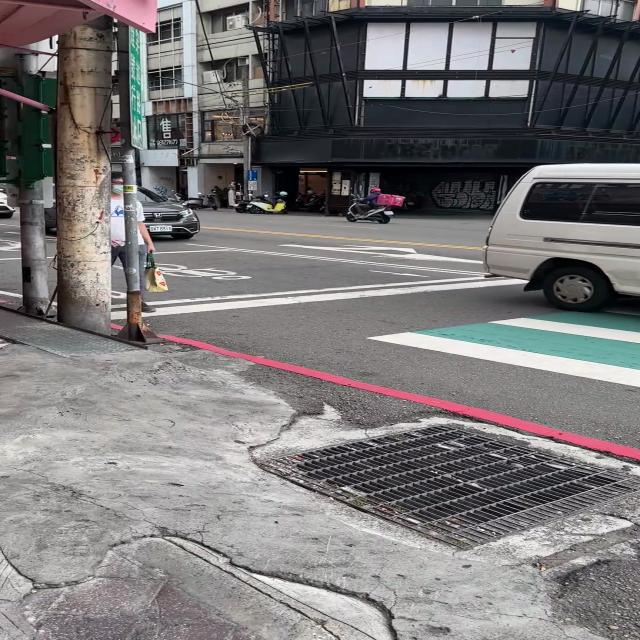car: (483, 164, 640, 311), (137, 188, 201, 239), (0, 190, 15, 219), (44, 210, 53, 229)
crosswalk: (349, 309, 640, 394)
motocycle: (344, 199, 393, 224)
